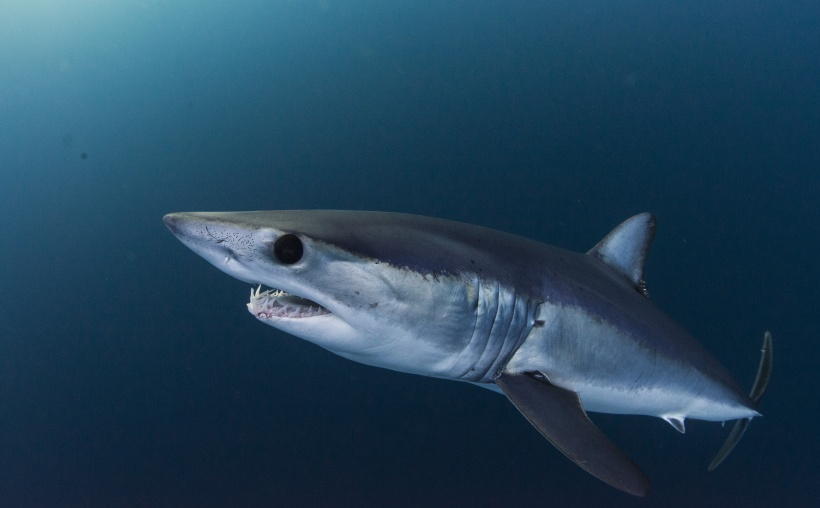Mako: (134, 181, 796, 508)
